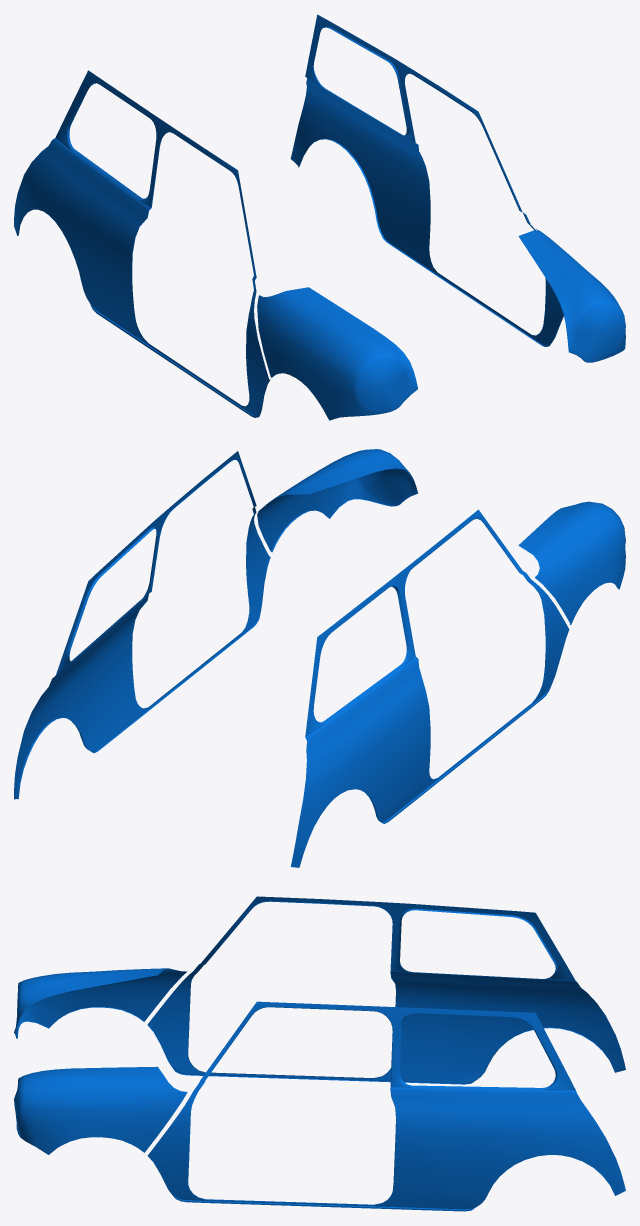
Rendered from Mini_Fenders01_Duco.fbx.
3 renders of one model, top to bottom at view 1: azimuth 30°, elevation 25°; view 2: azimuth 150°, elevation 25°; view 3: azimuth 270°, elevation 25°, orthographic. The views are drawn at different scales.
Parts seen in each view (by area): view 1: Mini_Fenders01_Duco; view 2: Mini_Fenders01_Duco; view 3: Mini_Fenders01_Duco.
Part boxes in pixels (x1=…): Mini_Fenders01_Duco: x1=14, y1=14, x2=625, y2=420; Mini_Fenders01_Duco: x1=14, y1=449, x2=625, y2=867; Mini_Fenders01_Duco: x1=14, y1=896, x2=625, y2=1211.
Size of the model in its own units: 138 by 97.56 by 272.
